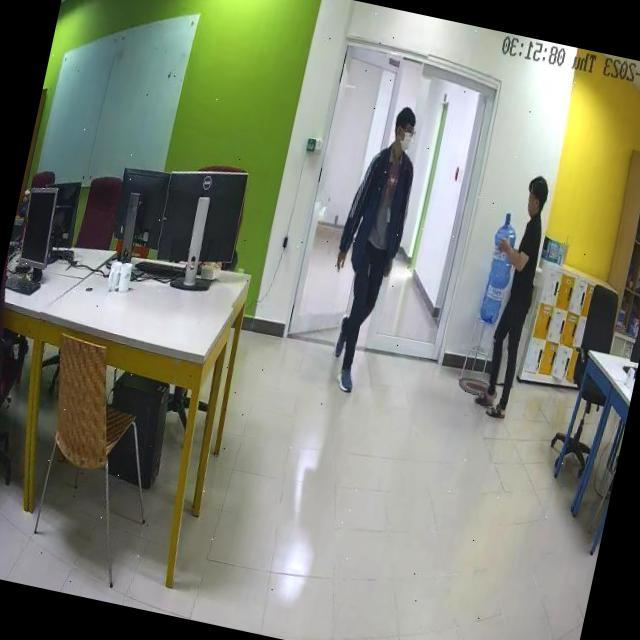person: (319, 102, 427, 398), (472, 172, 558, 417)
